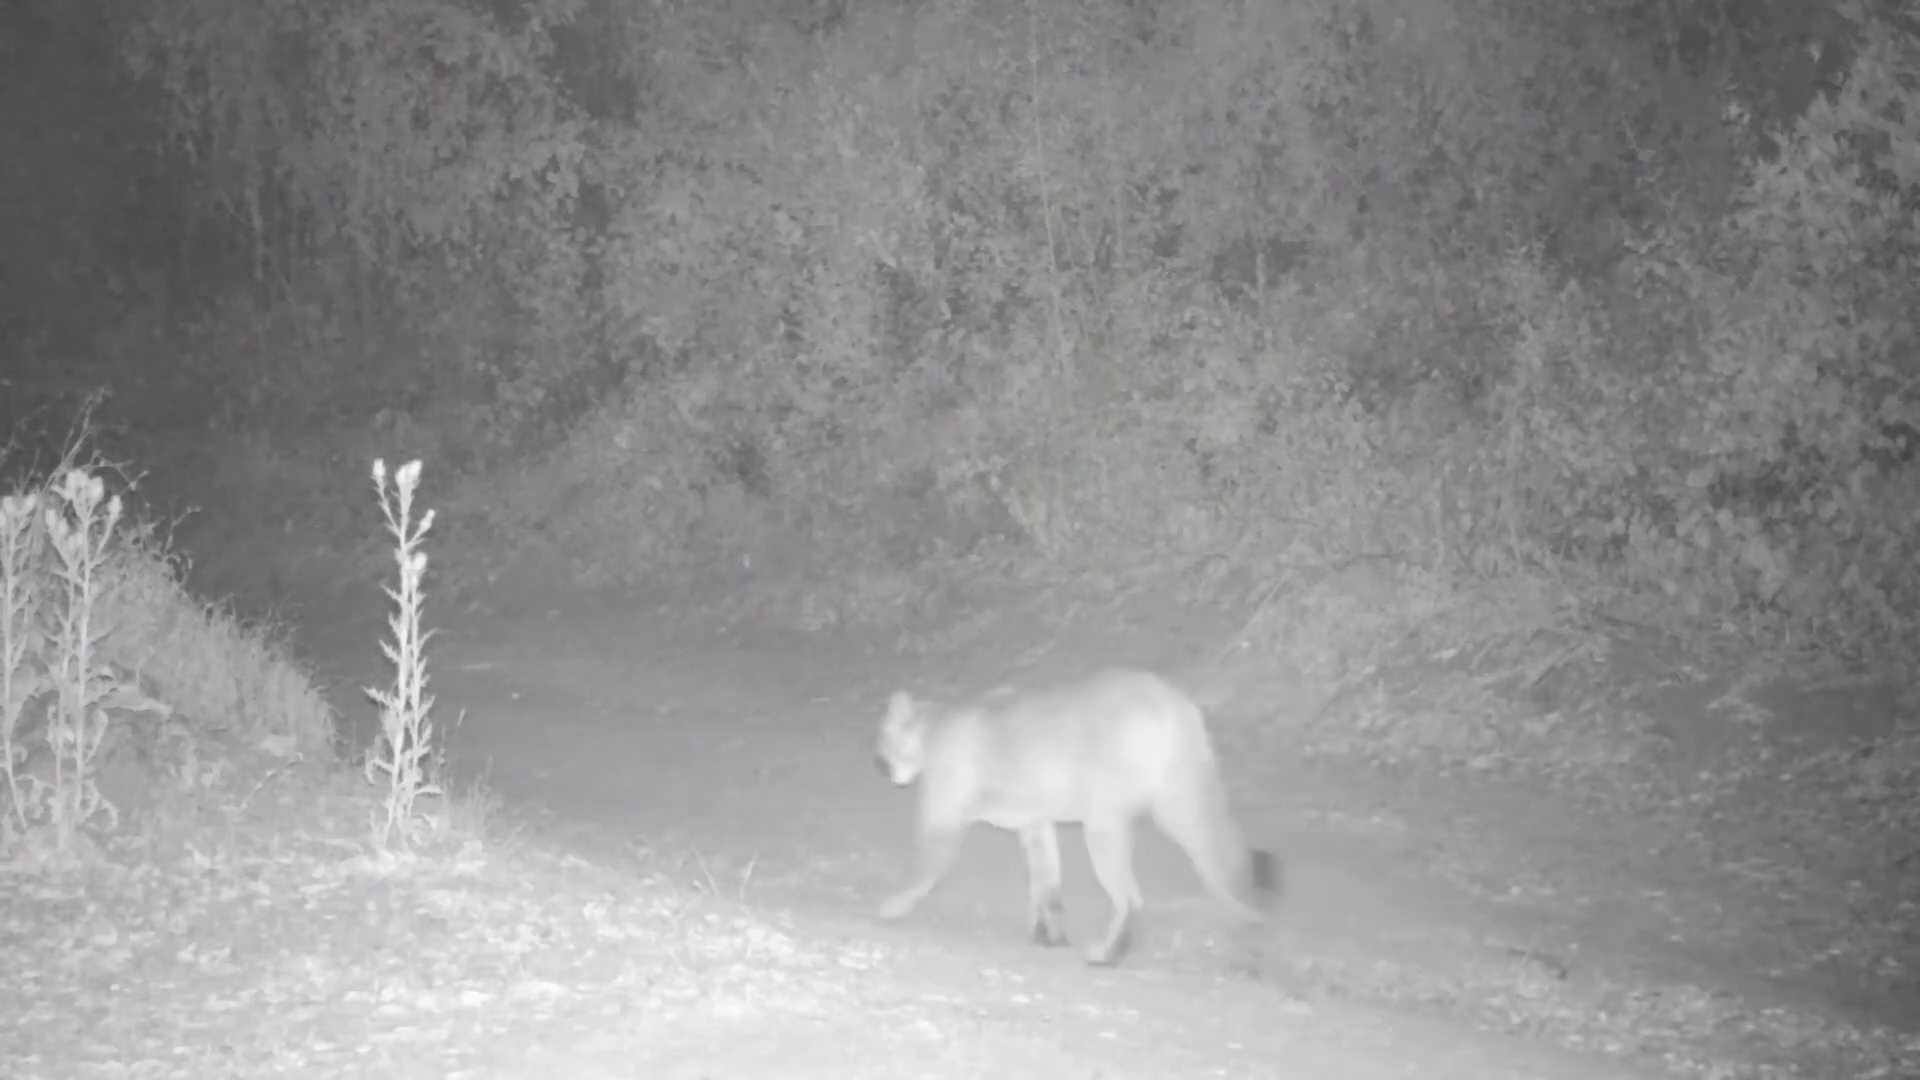Lion: (869, 662, 1286, 967)
